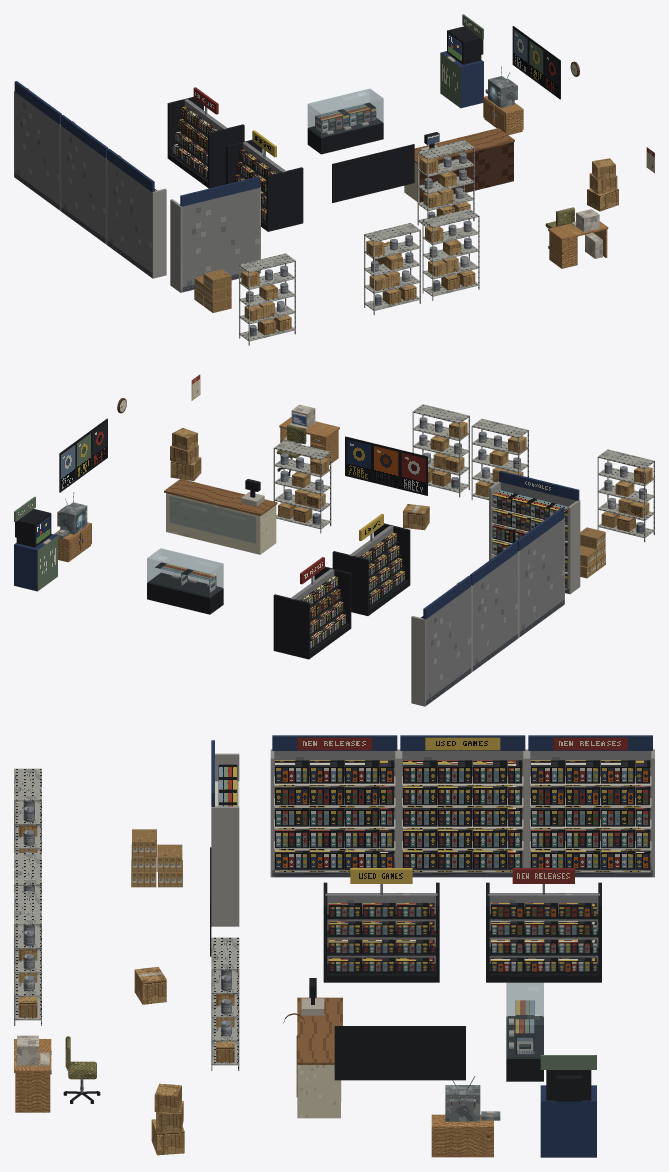
The model's file is COM_GameShop_Furnishing.glb.
3 renders of one model, top to bottom at view 1: azimuth 30°, elevation 25°; view 2: azimuth 150°, elevation 25°; view 3: azimuth 270°, elevation 25°, orthographic. The views are drawn at different scales.
Visible parts, largest first — view 1: COM_GameShop_Furnishing_Mesh; view 2: COM_GameShop_Furnishing_Mesh; view 3: COM_GameShop_Furnishing_Mesh.
Boxes of the visible parts, <box> form: COM_GameShop_Furnishing_Mesh: <box>14,14,654,345</box>; COM_GameShop_Furnishing_Mesh: <box>14,374,654,706</box>; COM_GameShop_Furnishing_Mesh: <box>14,735,654,1157</box>.
Size of what is drawn, in the model's own units: 11.1 by 2.57 by 10.27.
Materials: 14 (14 with a texture image).
